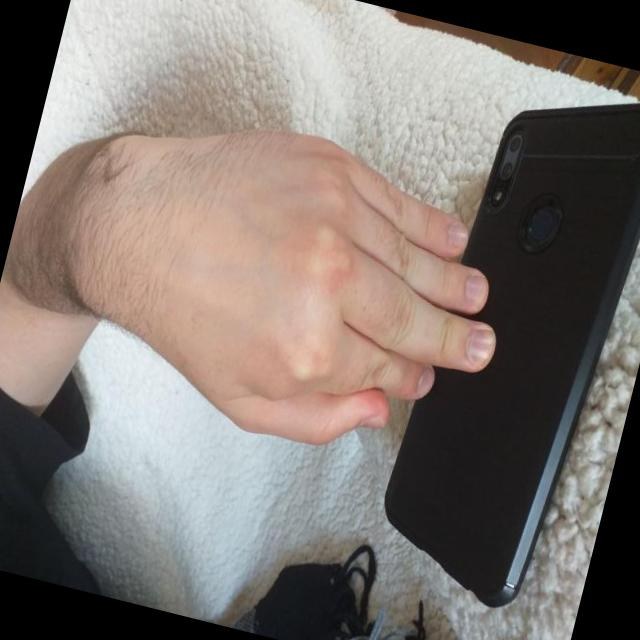Nail: (463, 326, 495, 366), (462, 274, 487, 308), (447, 221, 468, 251), (416, 367, 433, 396), (358, 413, 385, 427)
